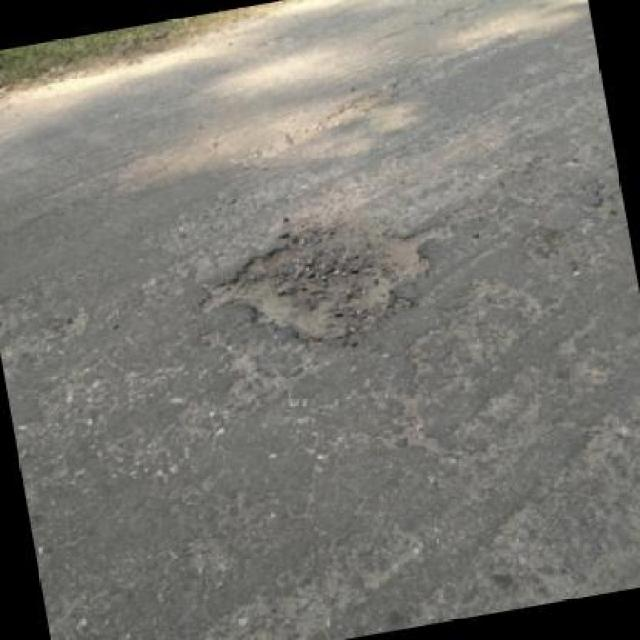pothole: (187, 199, 473, 367)
